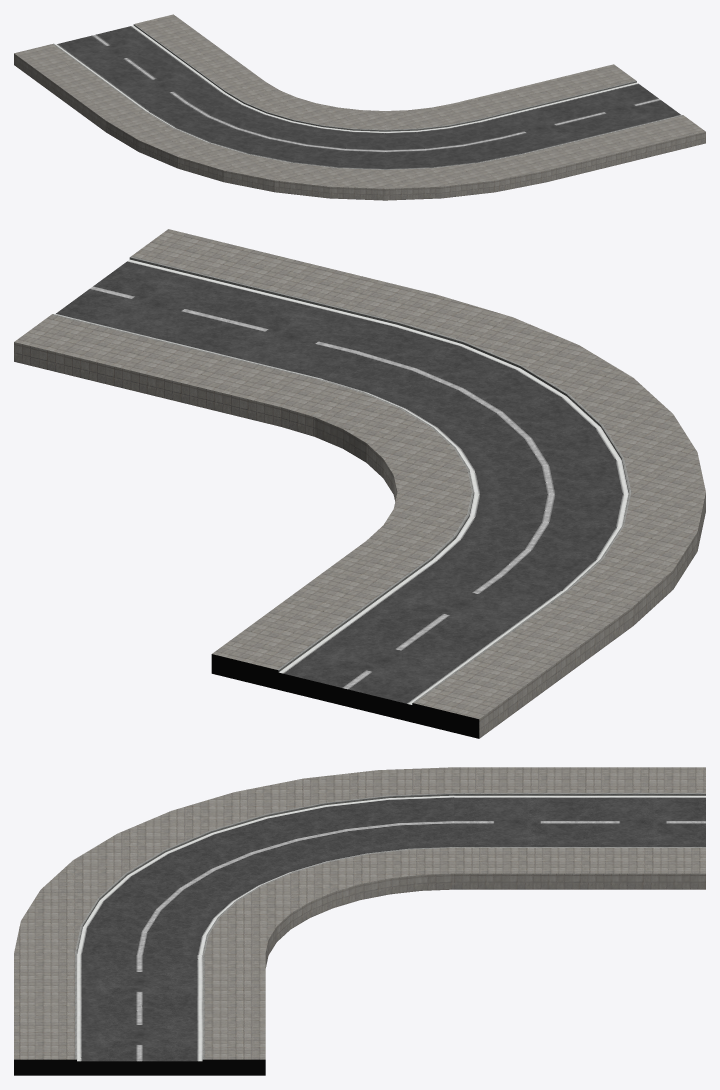
The model's file is SingleCorner_high.fbx.
3 renders of one model, top to bottom at view 1: azimuth 30°, elevation 25°; view 2: azimuth 150°, elevation 25°; view 3: azimuth 270°, elevation 25°, orthographic. The views are drawn at different scales.
Parts seen in each view (by area): view 1: materialC150, materialA150, materialD150, materialE150; view 2: materialC150, materialA150, materialB150, materialD150, materialE150; view 3: materialC150, materialA150, materialB150, materialD150, materialE150.
Part boxes in pixels (left/top/right/bottom): materialC150: left=14, top=14, right=705, bottom=200; materialA150: left=55, top=25, right=681, bottom=169; materialD150: left=53, top=24, right=682, bottom=169; materialE150: left=133, top=24, right=636, bottom=131; materialC150: left=14, top=229, right=705, bottom=738; materialA150: left=55, top=259, right=628, bottom=704; materialB150: left=211, top=654, right=479, bottom=738; materialD150: left=52, top=256, right=631, bottom=703; materialE150: left=129, top=257, right=628, bottom=671; materialC150: left=14, top=767, right=705, bottom=1059; materialA150: left=77, top=795, right=705, bottom=1061; materialB150: left=14, top=1059, right=265, bottom=1075; materialD150: left=75, top=793, right=705, bottom=1059; materialE150: left=77, top=794, right=705, bottom=953.
Size of the model in its own units: 70.4 by 1.8 by 70.4.
